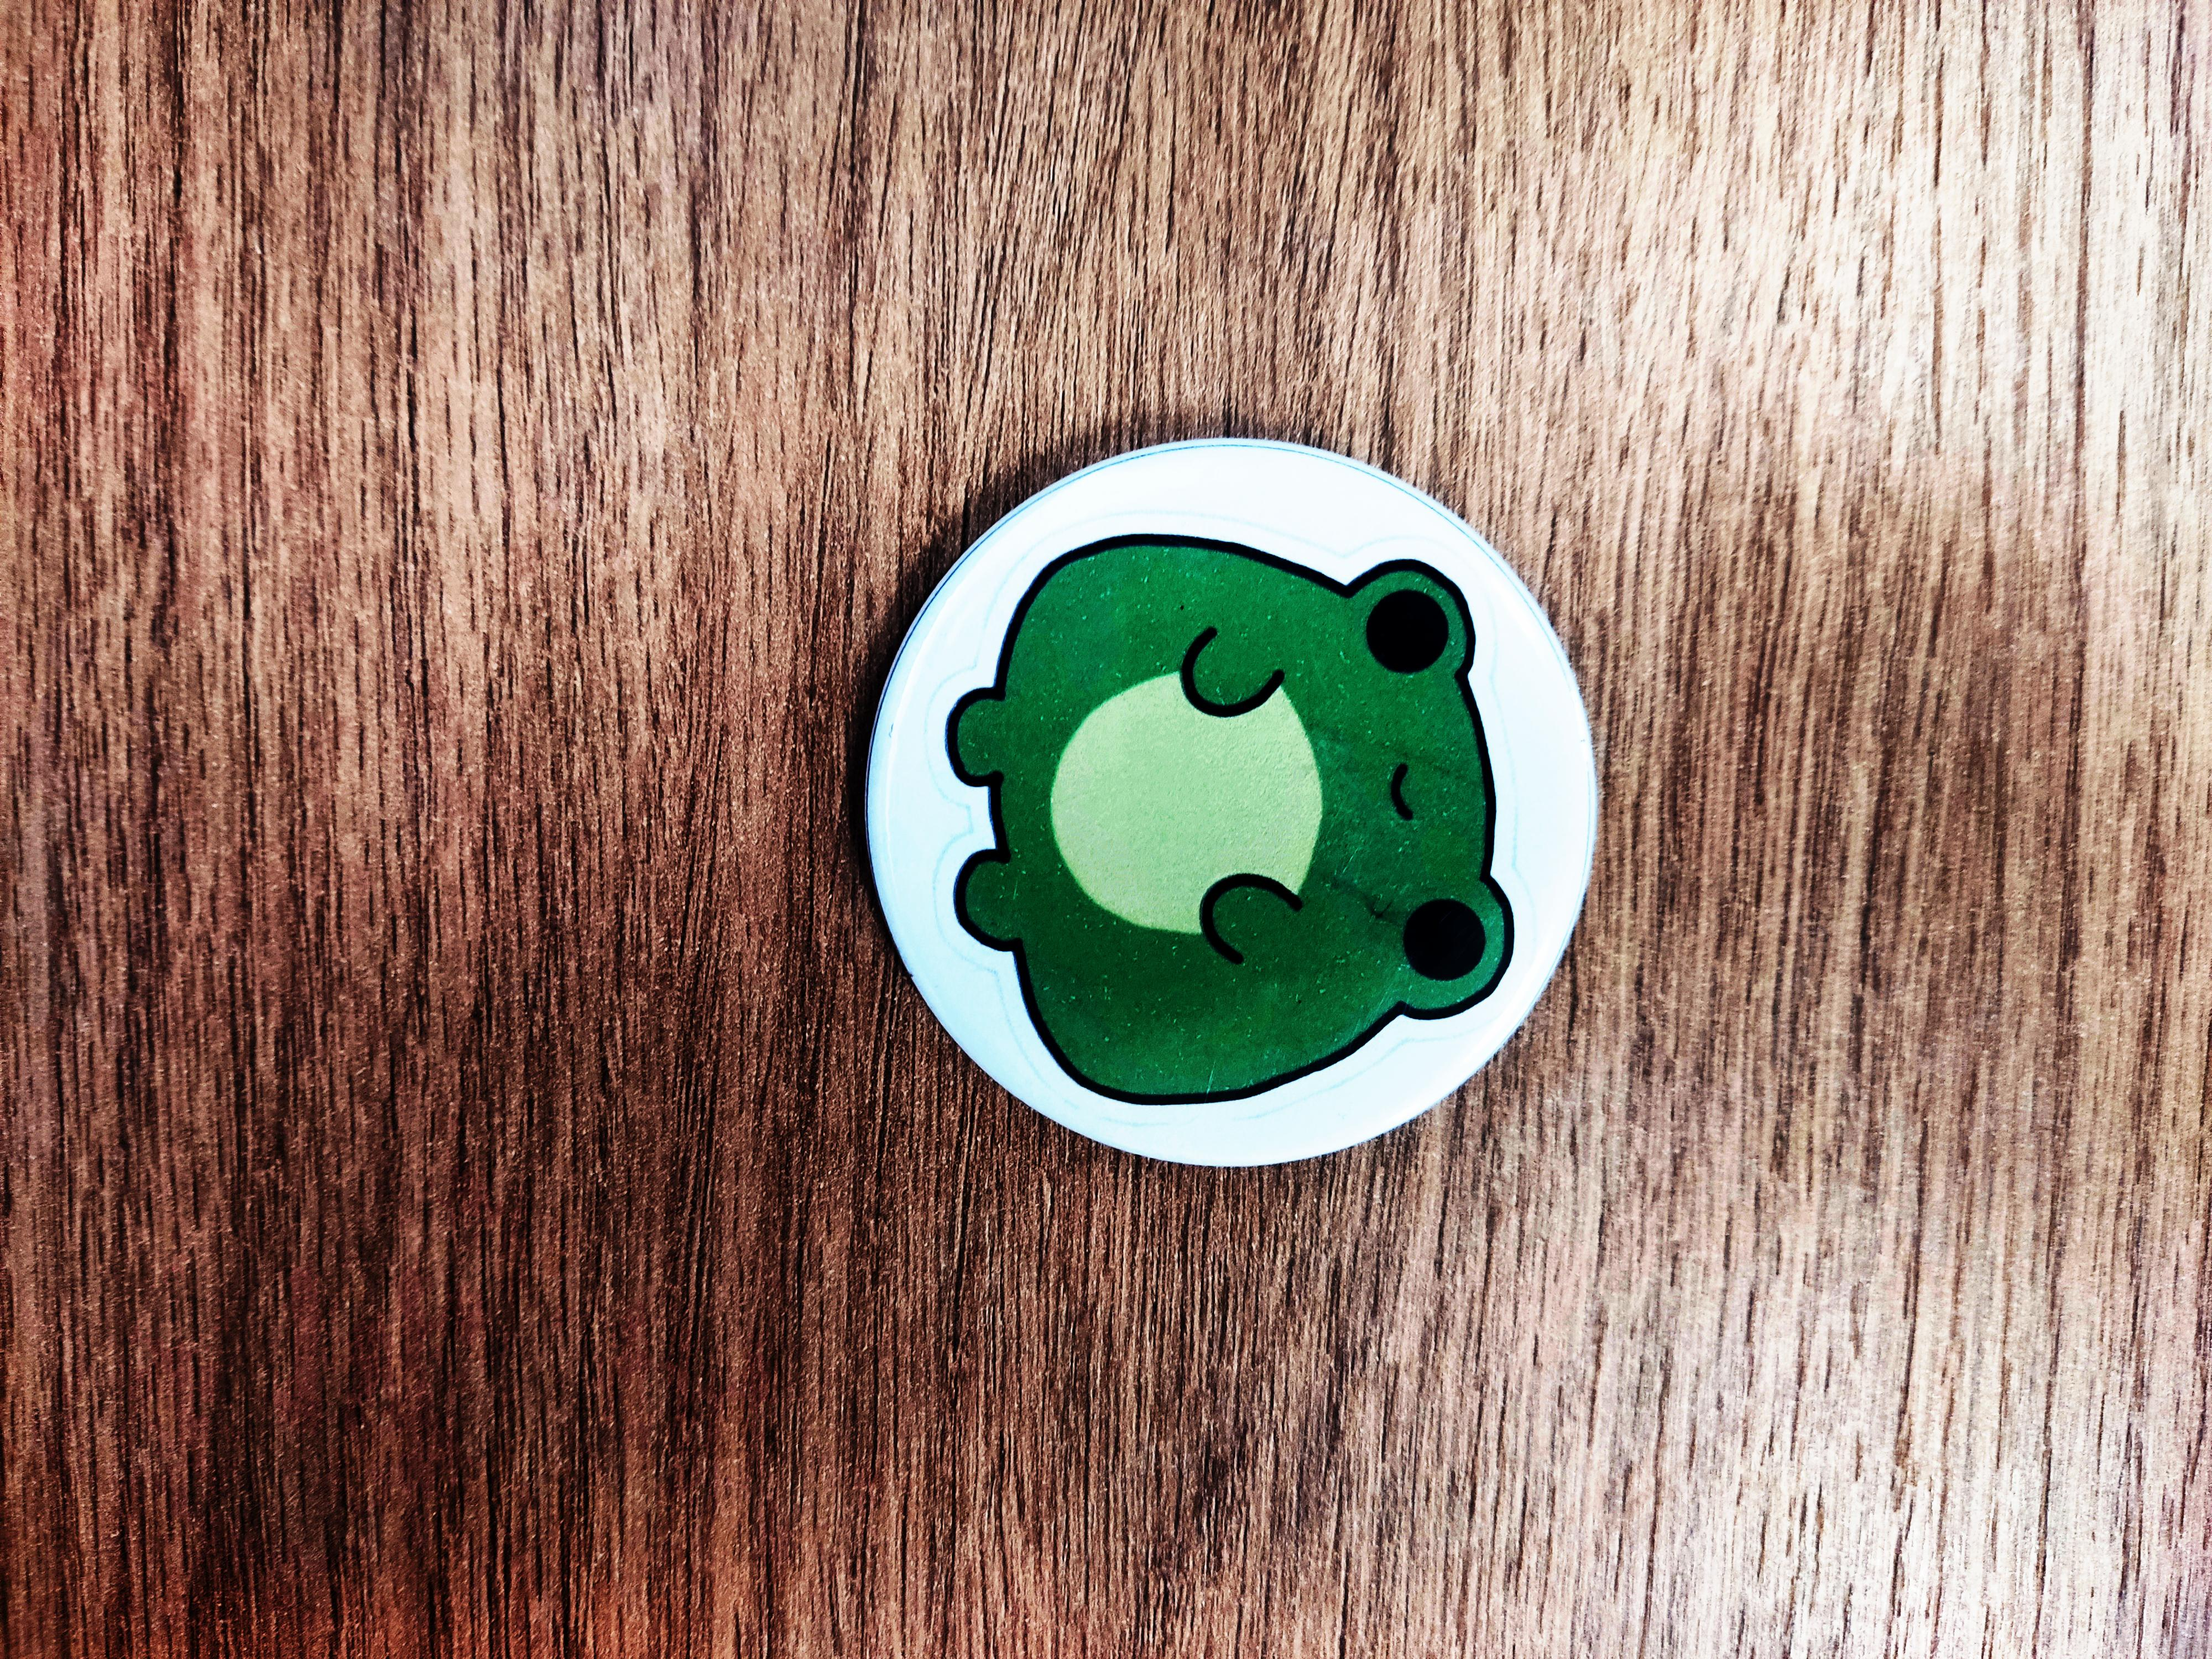pin: (857, 439, 1597, 1171)
